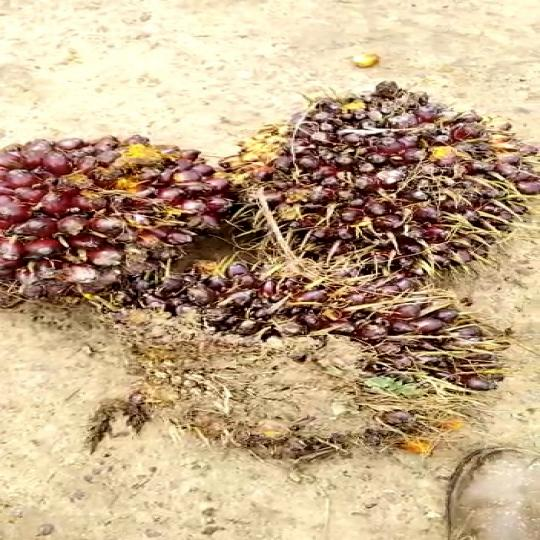kurang masak: (95, 256, 516, 485), (216, 82, 540, 284), (0, 117, 258, 298)
